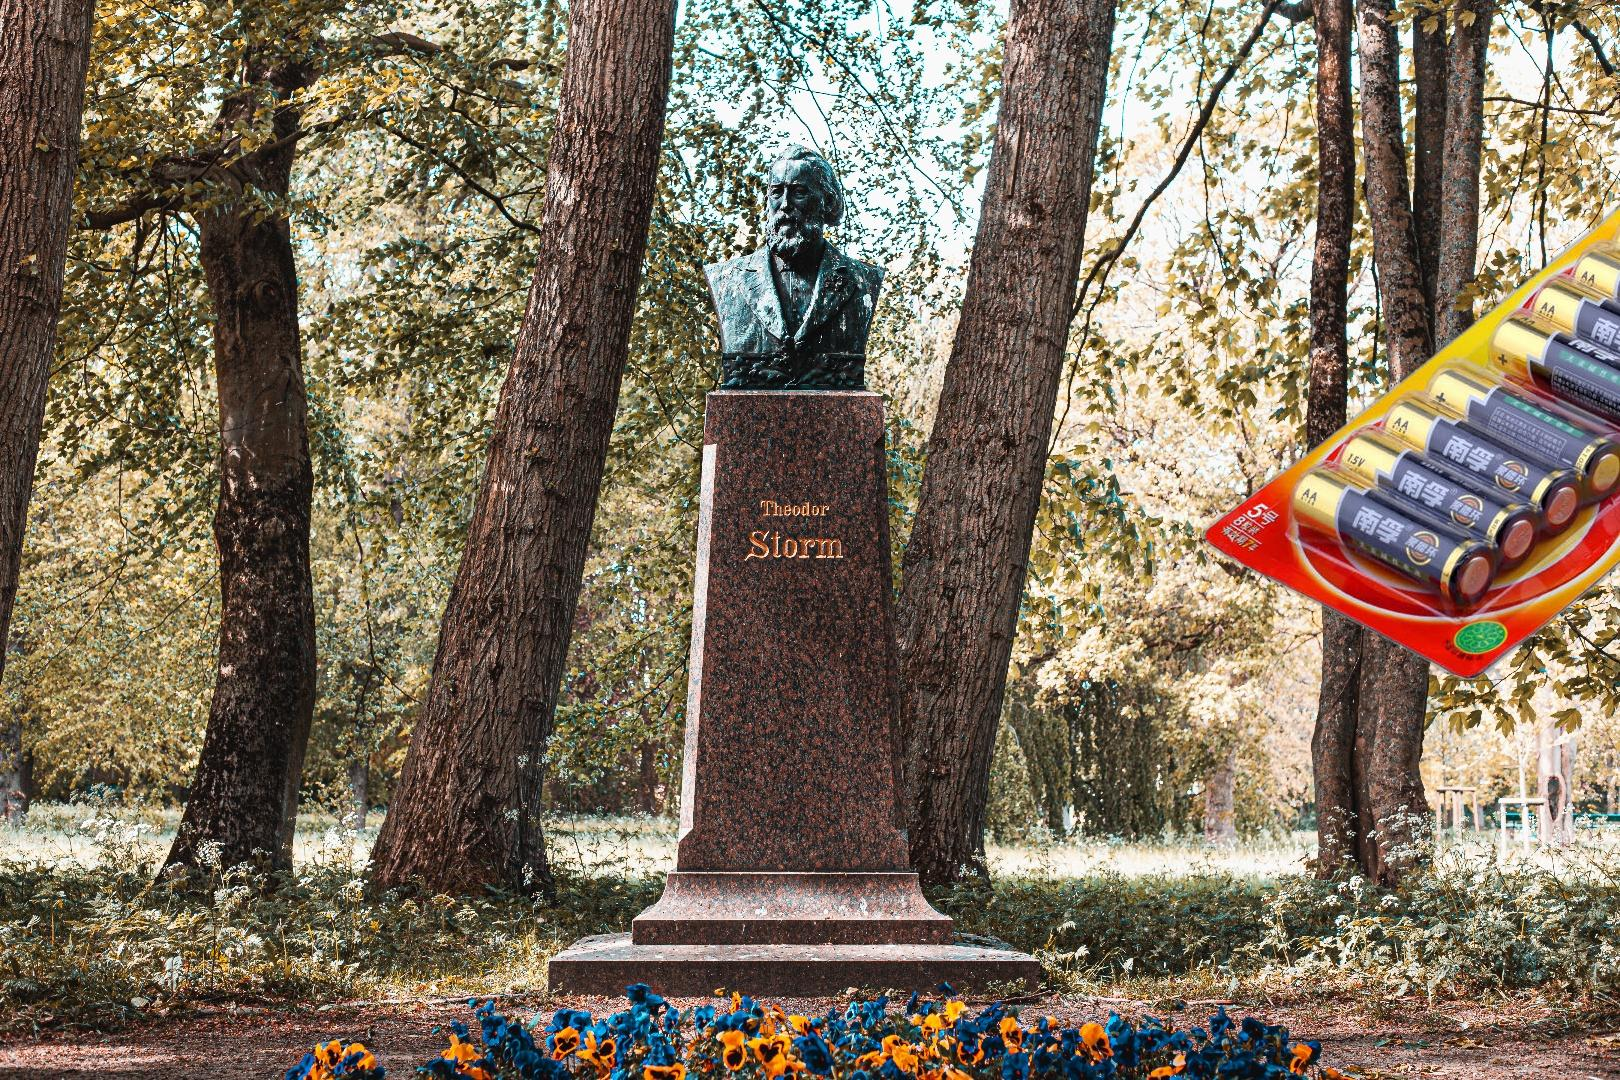battery: (1199, 112, 1620, 688)
